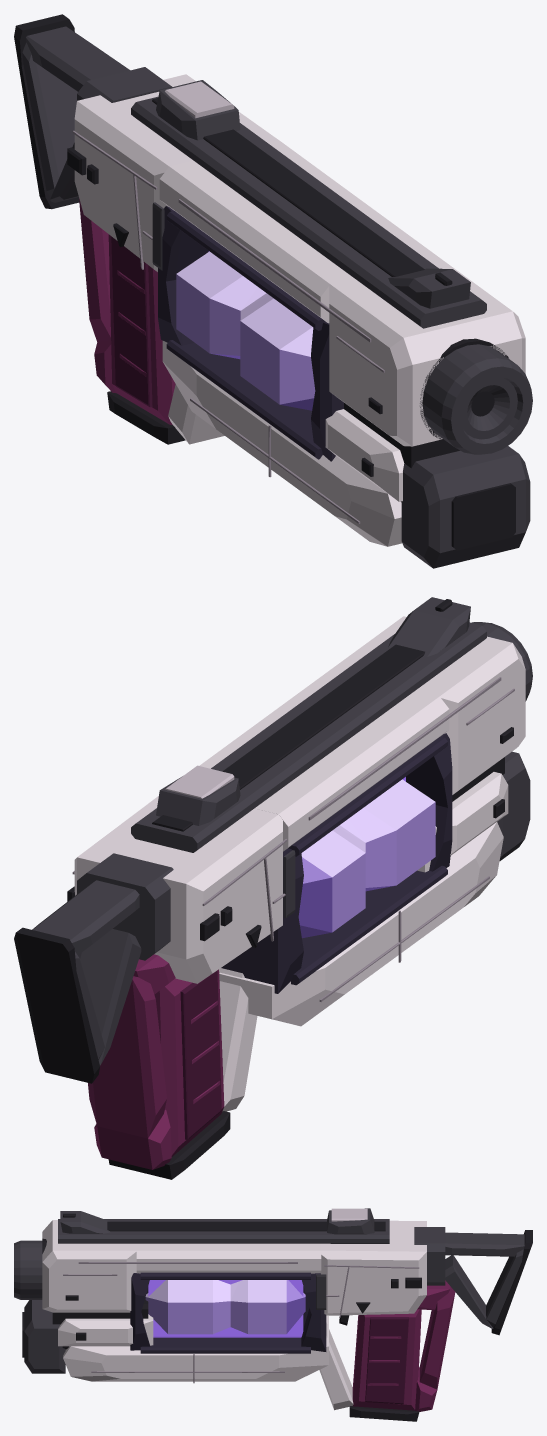
Rendered from PrismBlasterClean.glb.
3 views of the same model, one above another, from view 1: azimuth 30°, elevation 25°; view 2: azimuth 150°, elevation 25°; view 3: azimuth 270°, elevation 25° (orthographic). The views are drawn at different scales.
Visible parts, largest first — view 1: Body, Crystal; view 2: Body, Crystal; view 3: Body, Crystal, Glow.
Boxes of the visible parts, x1,y1,x2,y2 form: Body: (14,14,532,568); Crystal: (176,251,315,410); Body: (14,597,532,1179); Crystal: (298,779,435,938); Body: (14,1208,532,1421); Crystal: (145,1280,305,1334); Glow: (148,1280,303,1337).
Bounding box in the file's own units: 0.8 × 1.7 × 4.02.
3 materials, 3 textured.
